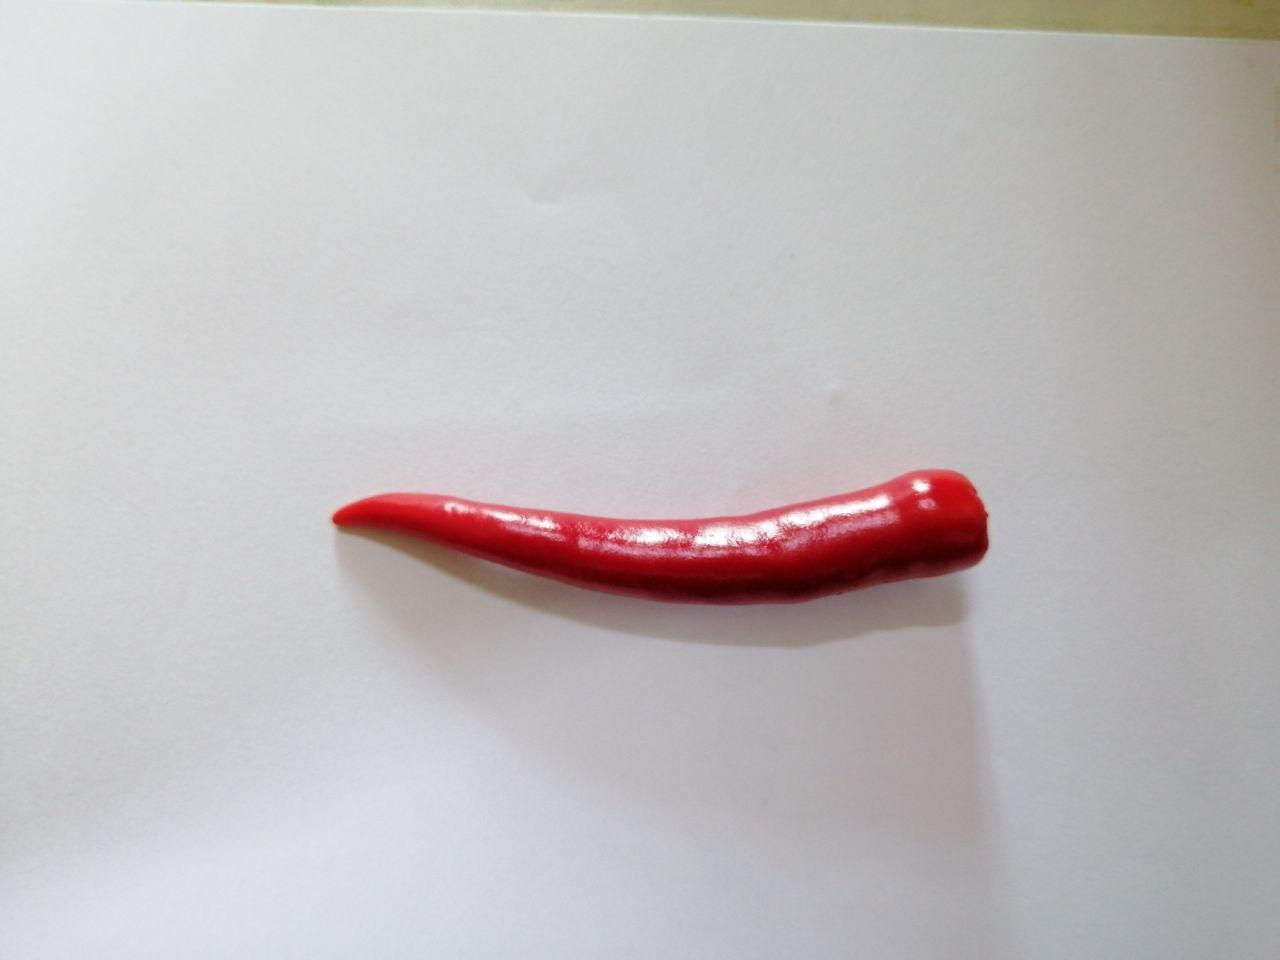lada merah: (315, 440, 1008, 618)
